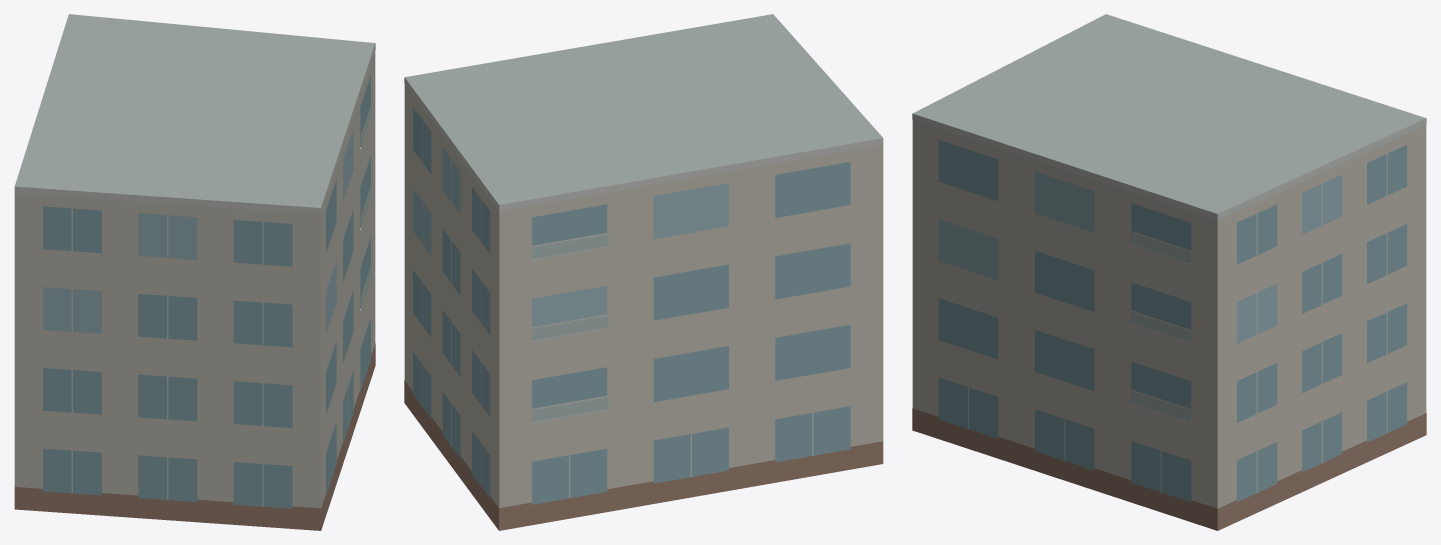
File: survey-upis-32777948.glb
3 renders of one model, left to right at view 1: azimuth 30°, elevation 25°; view 2: azimuth 150°, elevation 25°; view 3: azimuth 270°, elevation 25°, orthographic. The views are drawn at different scales.
Visible parts, largest first — view 1: survey-upis-32777948.tmp; view 2: survey-upis-32777948.tmp; view 3: survey-upis-32777948.tmp.
Part boxes in pixels (x1,y1,x2,y2): survey-upis-32777948.tmp: (14,14,375,530); survey-upis-32777948.tmp: (404,14,883,530); survey-upis-32777948.tmp: (912,14,1426,530).
Bounding box in the file's own units: 16.36 × 12.08 × 17.77.
